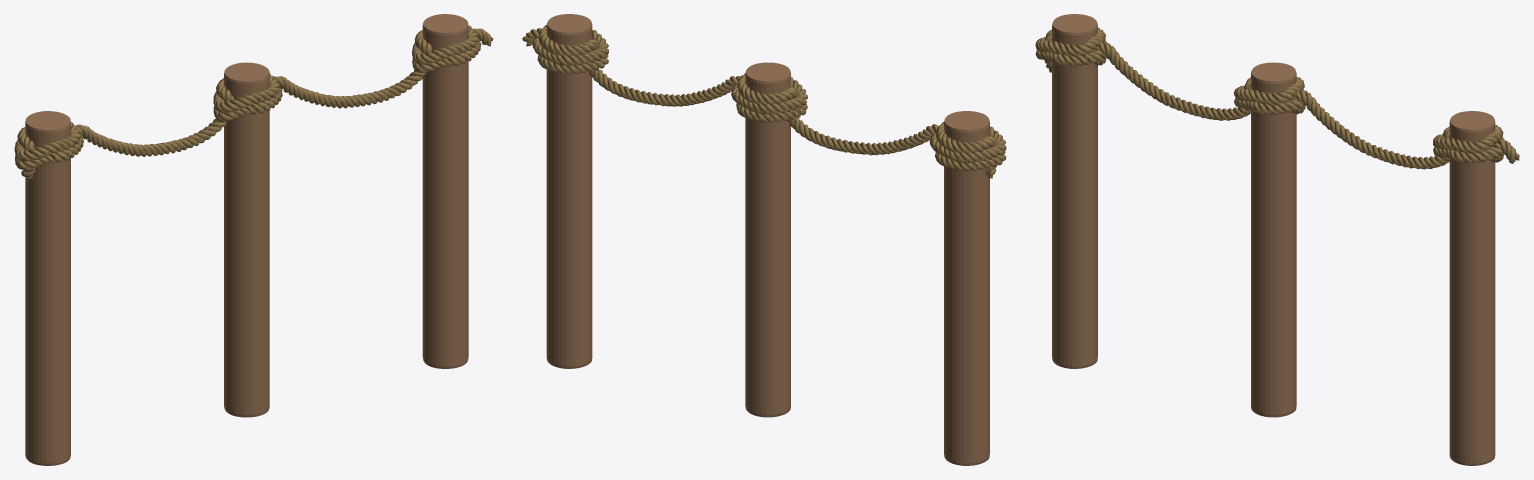
Rendered from dock_part_posts.fbx.
3 renders of one model, left to right at view 1: azimuth 30°, elevation 25°; view 2: azimuth 150°, elevation 25°; view 3: azimuth 330°, elevation 25°, orthographic.
Parts seen in each view (by area): view 1: Cylinder.001, Cylinder; view 2: Cylinder.001, Cylinder; view 3: Cylinder.001, Cylinder.
Part boxes in pixels (<box>): Cylinder.001: <box>25,14,468,465</box>; Cylinder: <box>14,25,493,180</box>; Cylinder.001: <box>546,14,989,465</box>; Cylinder: <box>522,25,1006,178</box>; Cylinder.001: <box>1052,14,1495,465</box>; Cylinder: <box>1035,27,1519,169</box>.
Size of the model in its own units: 597 by 400 by 68.87.
